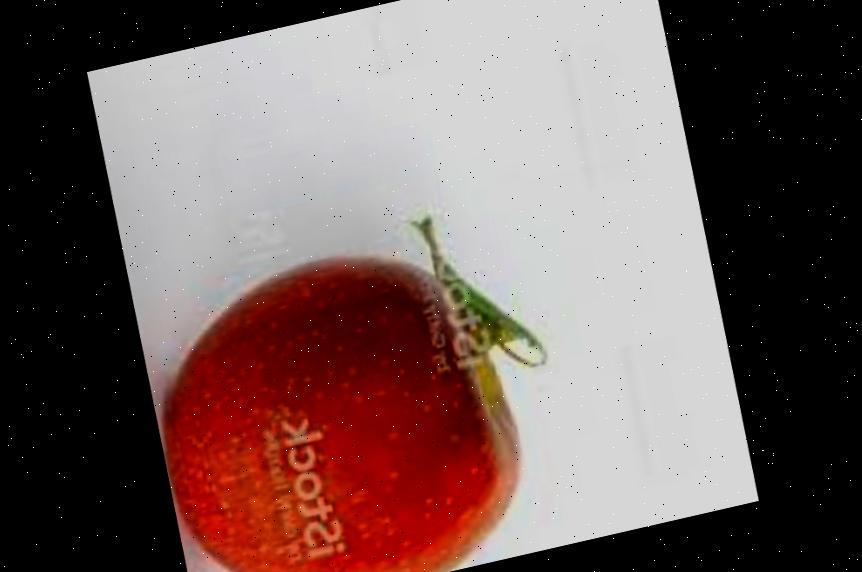HEALTHY: (116, 179, 600, 572)
